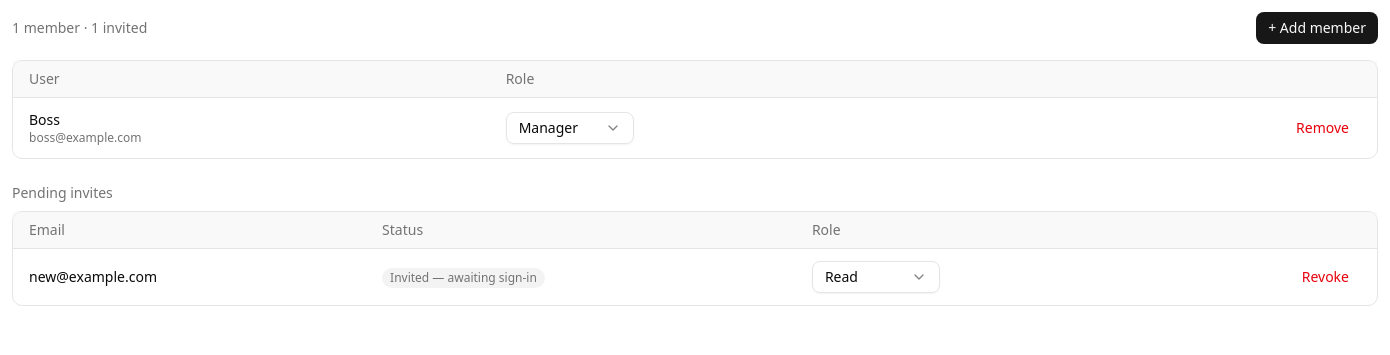
it: keeps the conflict message and the list when the refresh fails
The image size is (1390, 355).
Click the button with test id "invite-revoke-new@example.com".
click(1325, 277)  # box [1290,261,1361,293]
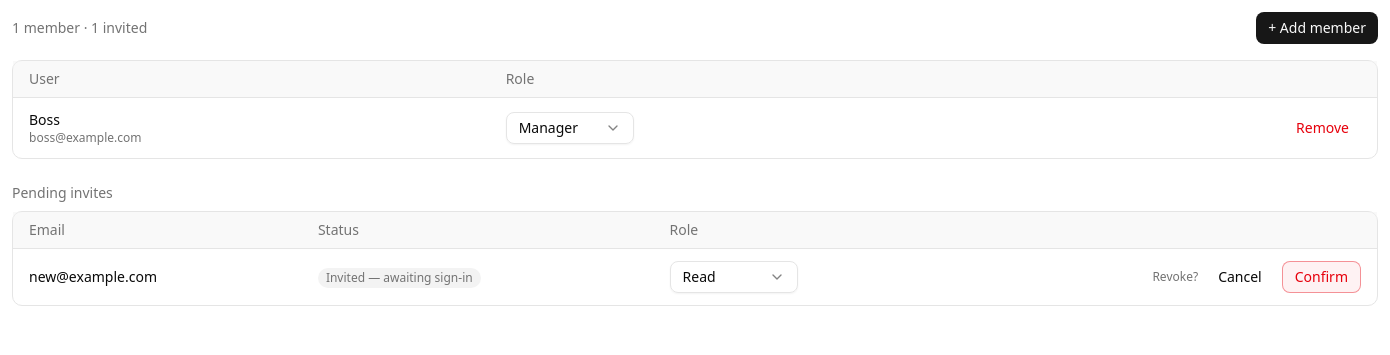
Click the button with test id "confirm-revoke-invite-new@example.com".
click(1321, 277)  # box [1282,261,1361,293]
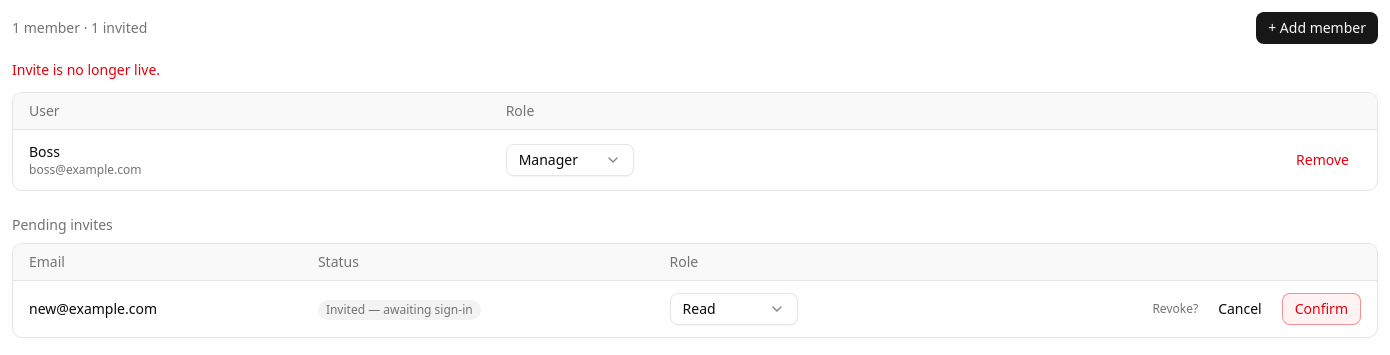
Expected: the row with test id "invite-row-new@example.com" is shown, [13,280,1377,337]
Expected: the text with test id "members-mutation-error" reads "Invite is no longer live.", [12,60,160,79]
